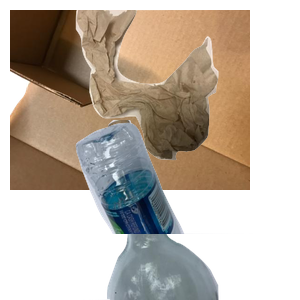cardboard: (10, 10, 250, 190)
glass: (83, 120, 294, 300)
plastic: (73, 120, 300, 300)
trash: (73, 10, 300, 163)
